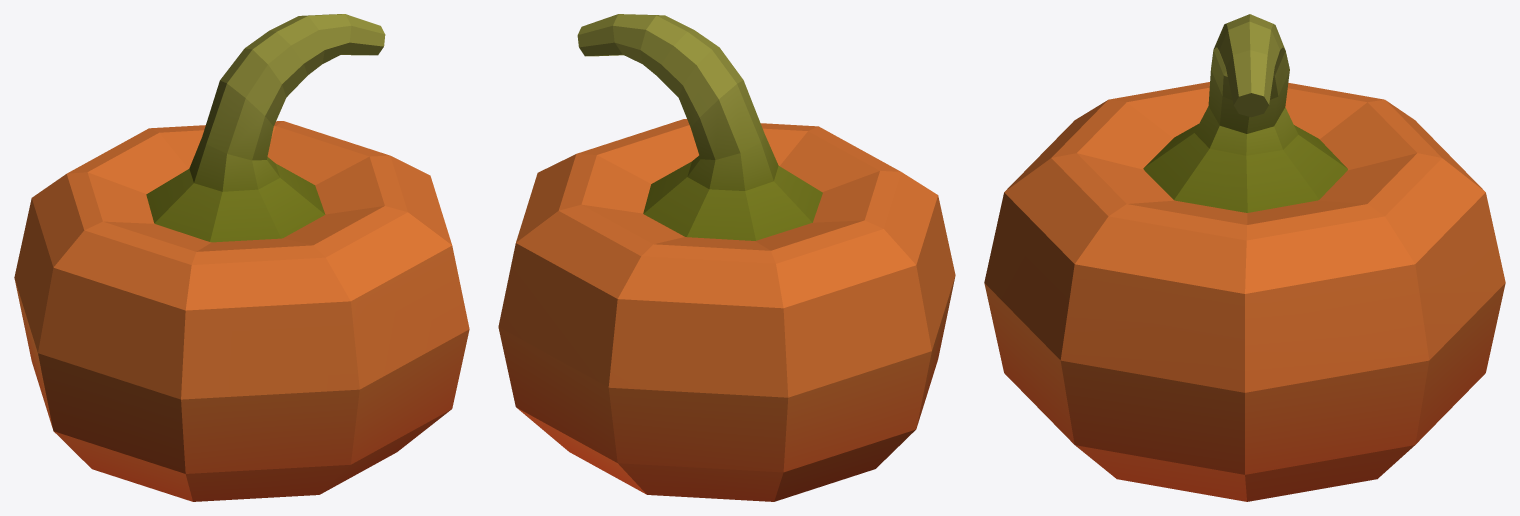
The model's file is farmpack2023pumpkin.fbx.
3 views of the same model, side by side, from view 1: azimuth 30°, elevation 25°; view 2: azimuth 150°, elevation 25°; view 3: azimuth 270°, elevation 25° (orthographic). The views are drawn at different scales.
Parts seen in each view (by area): view 1: Sphere; view 2: Sphere; view 3: Sphere.
Boxes of the visible parts, <box> form: Sphere: <box>14,14,469,501</box>; Sphere: <box>498,14,955,501</box>; Sphere: <box>984,14,1505,501</box>.
Size of the model in its own units: 1.46 by 1.46 by 1.44.
